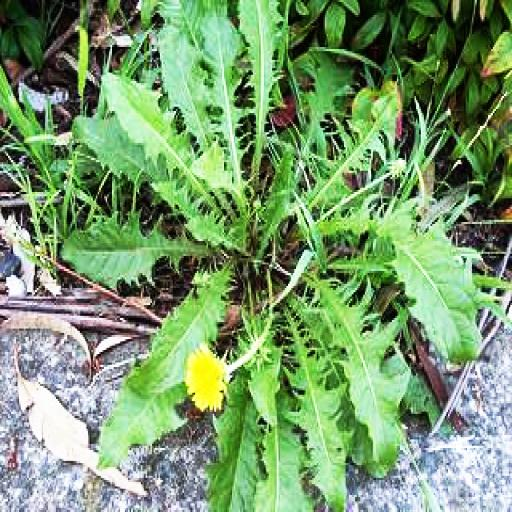dandelion: (184, 346, 229, 412)
